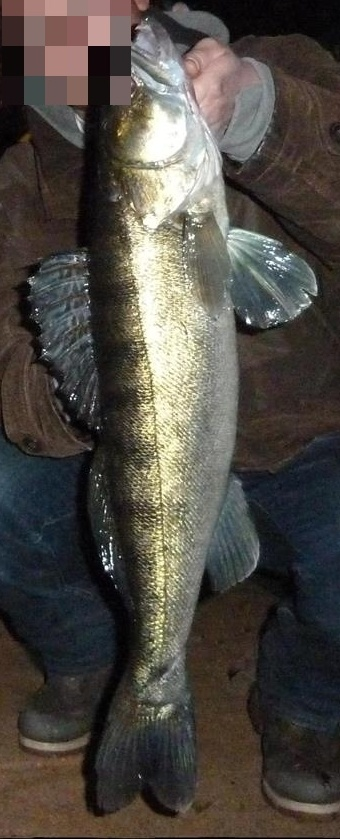Sander lucioperca: (20, 20, 320, 819)
